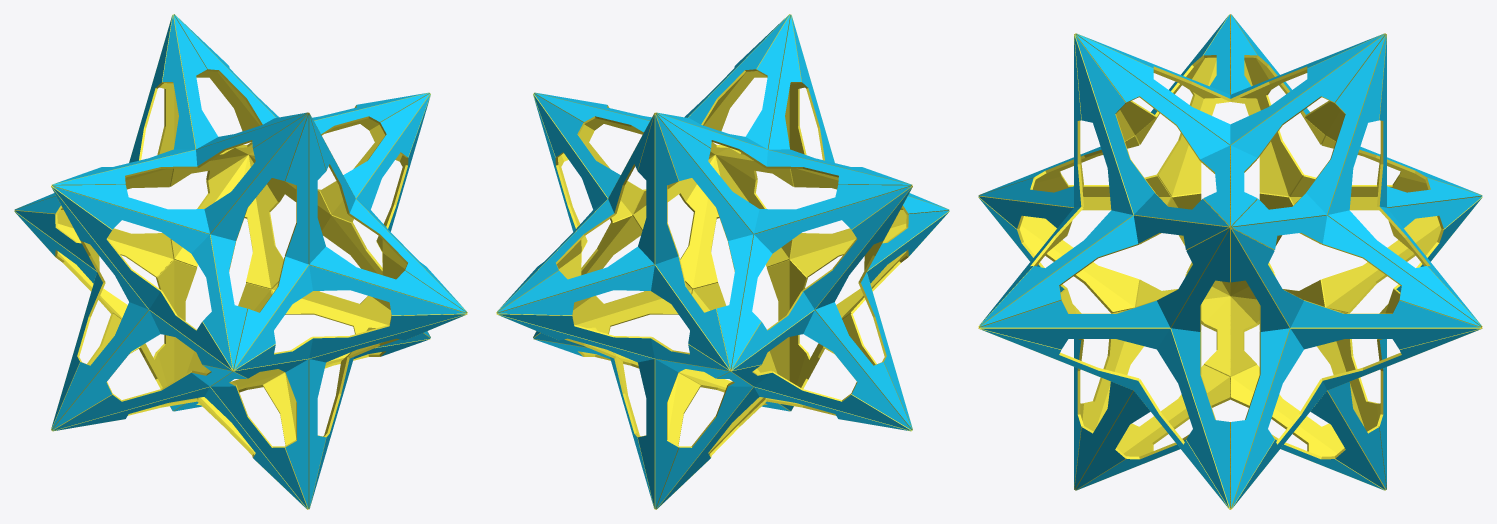
The model's file is SmallStellapentakisDodecahedronS1.glb.
3 views of the same model, side by side, from view 1: azimuth 30°, elevation 25°; view 2: azimuth 150°, elevation 25°; view 3: azimuth 270°, elevation 25° (orthographic). The views are drawn at different scales.
Parts seen in each view (by area): view 1: root; view 2: root; view 3: root.
Part boxes in pixels (left/top/right/bottom): root: left=14, top=14, right=467, bottom=509; root: left=496, top=14, right=949, bottom=509; root: left=978, top=14, right=1482, bottom=509.
Bounding box in the file's own units: 8.81 × 8.81 × 8.81.
